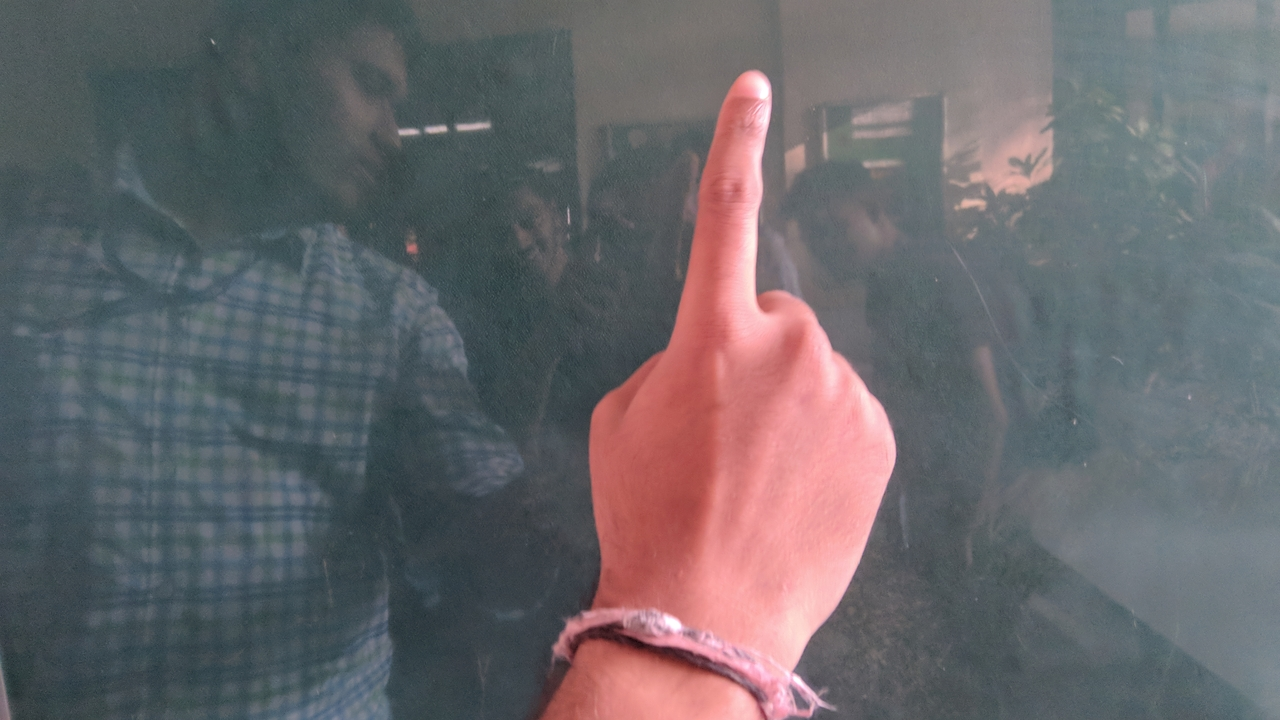fingertip: (722, 62, 778, 118)
